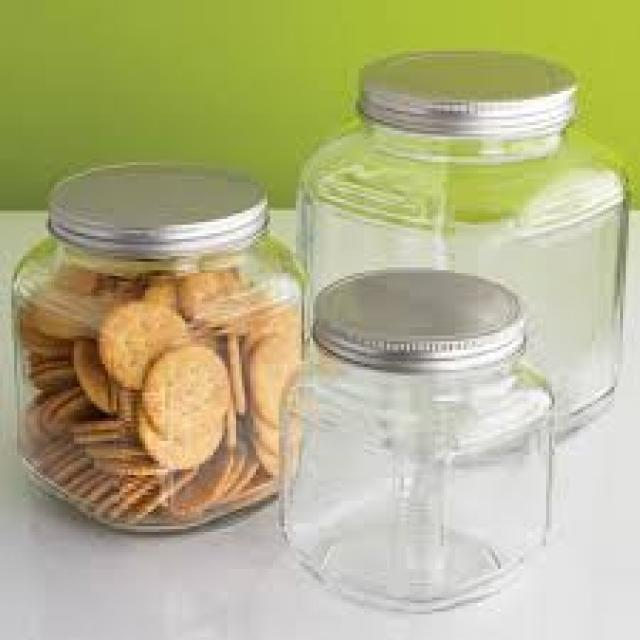organic waste: (29, 427, 180, 518), (94, 298, 188, 392), (136, 344, 228, 438), (128, 381, 222, 467), (245, 310, 310, 421), (11, 287, 100, 347), (176, 262, 262, 324), (71, 332, 139, 410), (31, 381, 111, 447), (168, 469, 279, 512), (162, 444, 228, 506), (199, 447, 273, 492), (37, 259, 114, 301), (219, 324, 253, 412), (242, 412, 307, 450), (23, 341, 74, 387), (80, 268, 145, 302), (242, 441, 301, 472), (134, 276, 174, 307)
